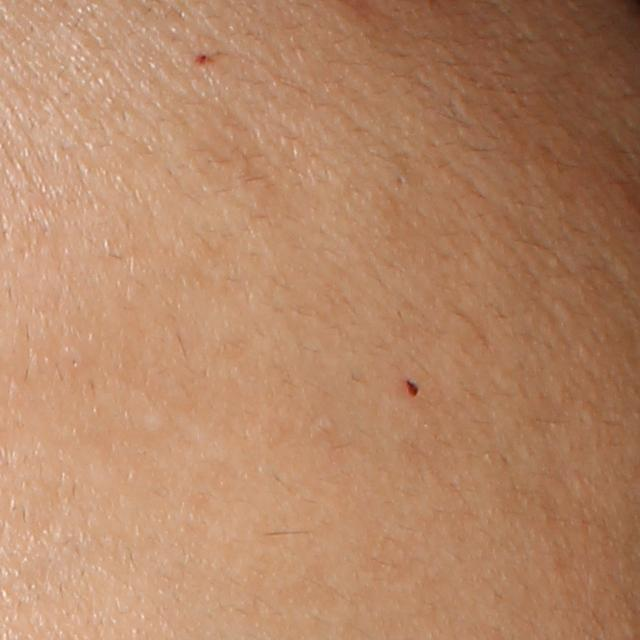other: (402, 376, 422, 401)
